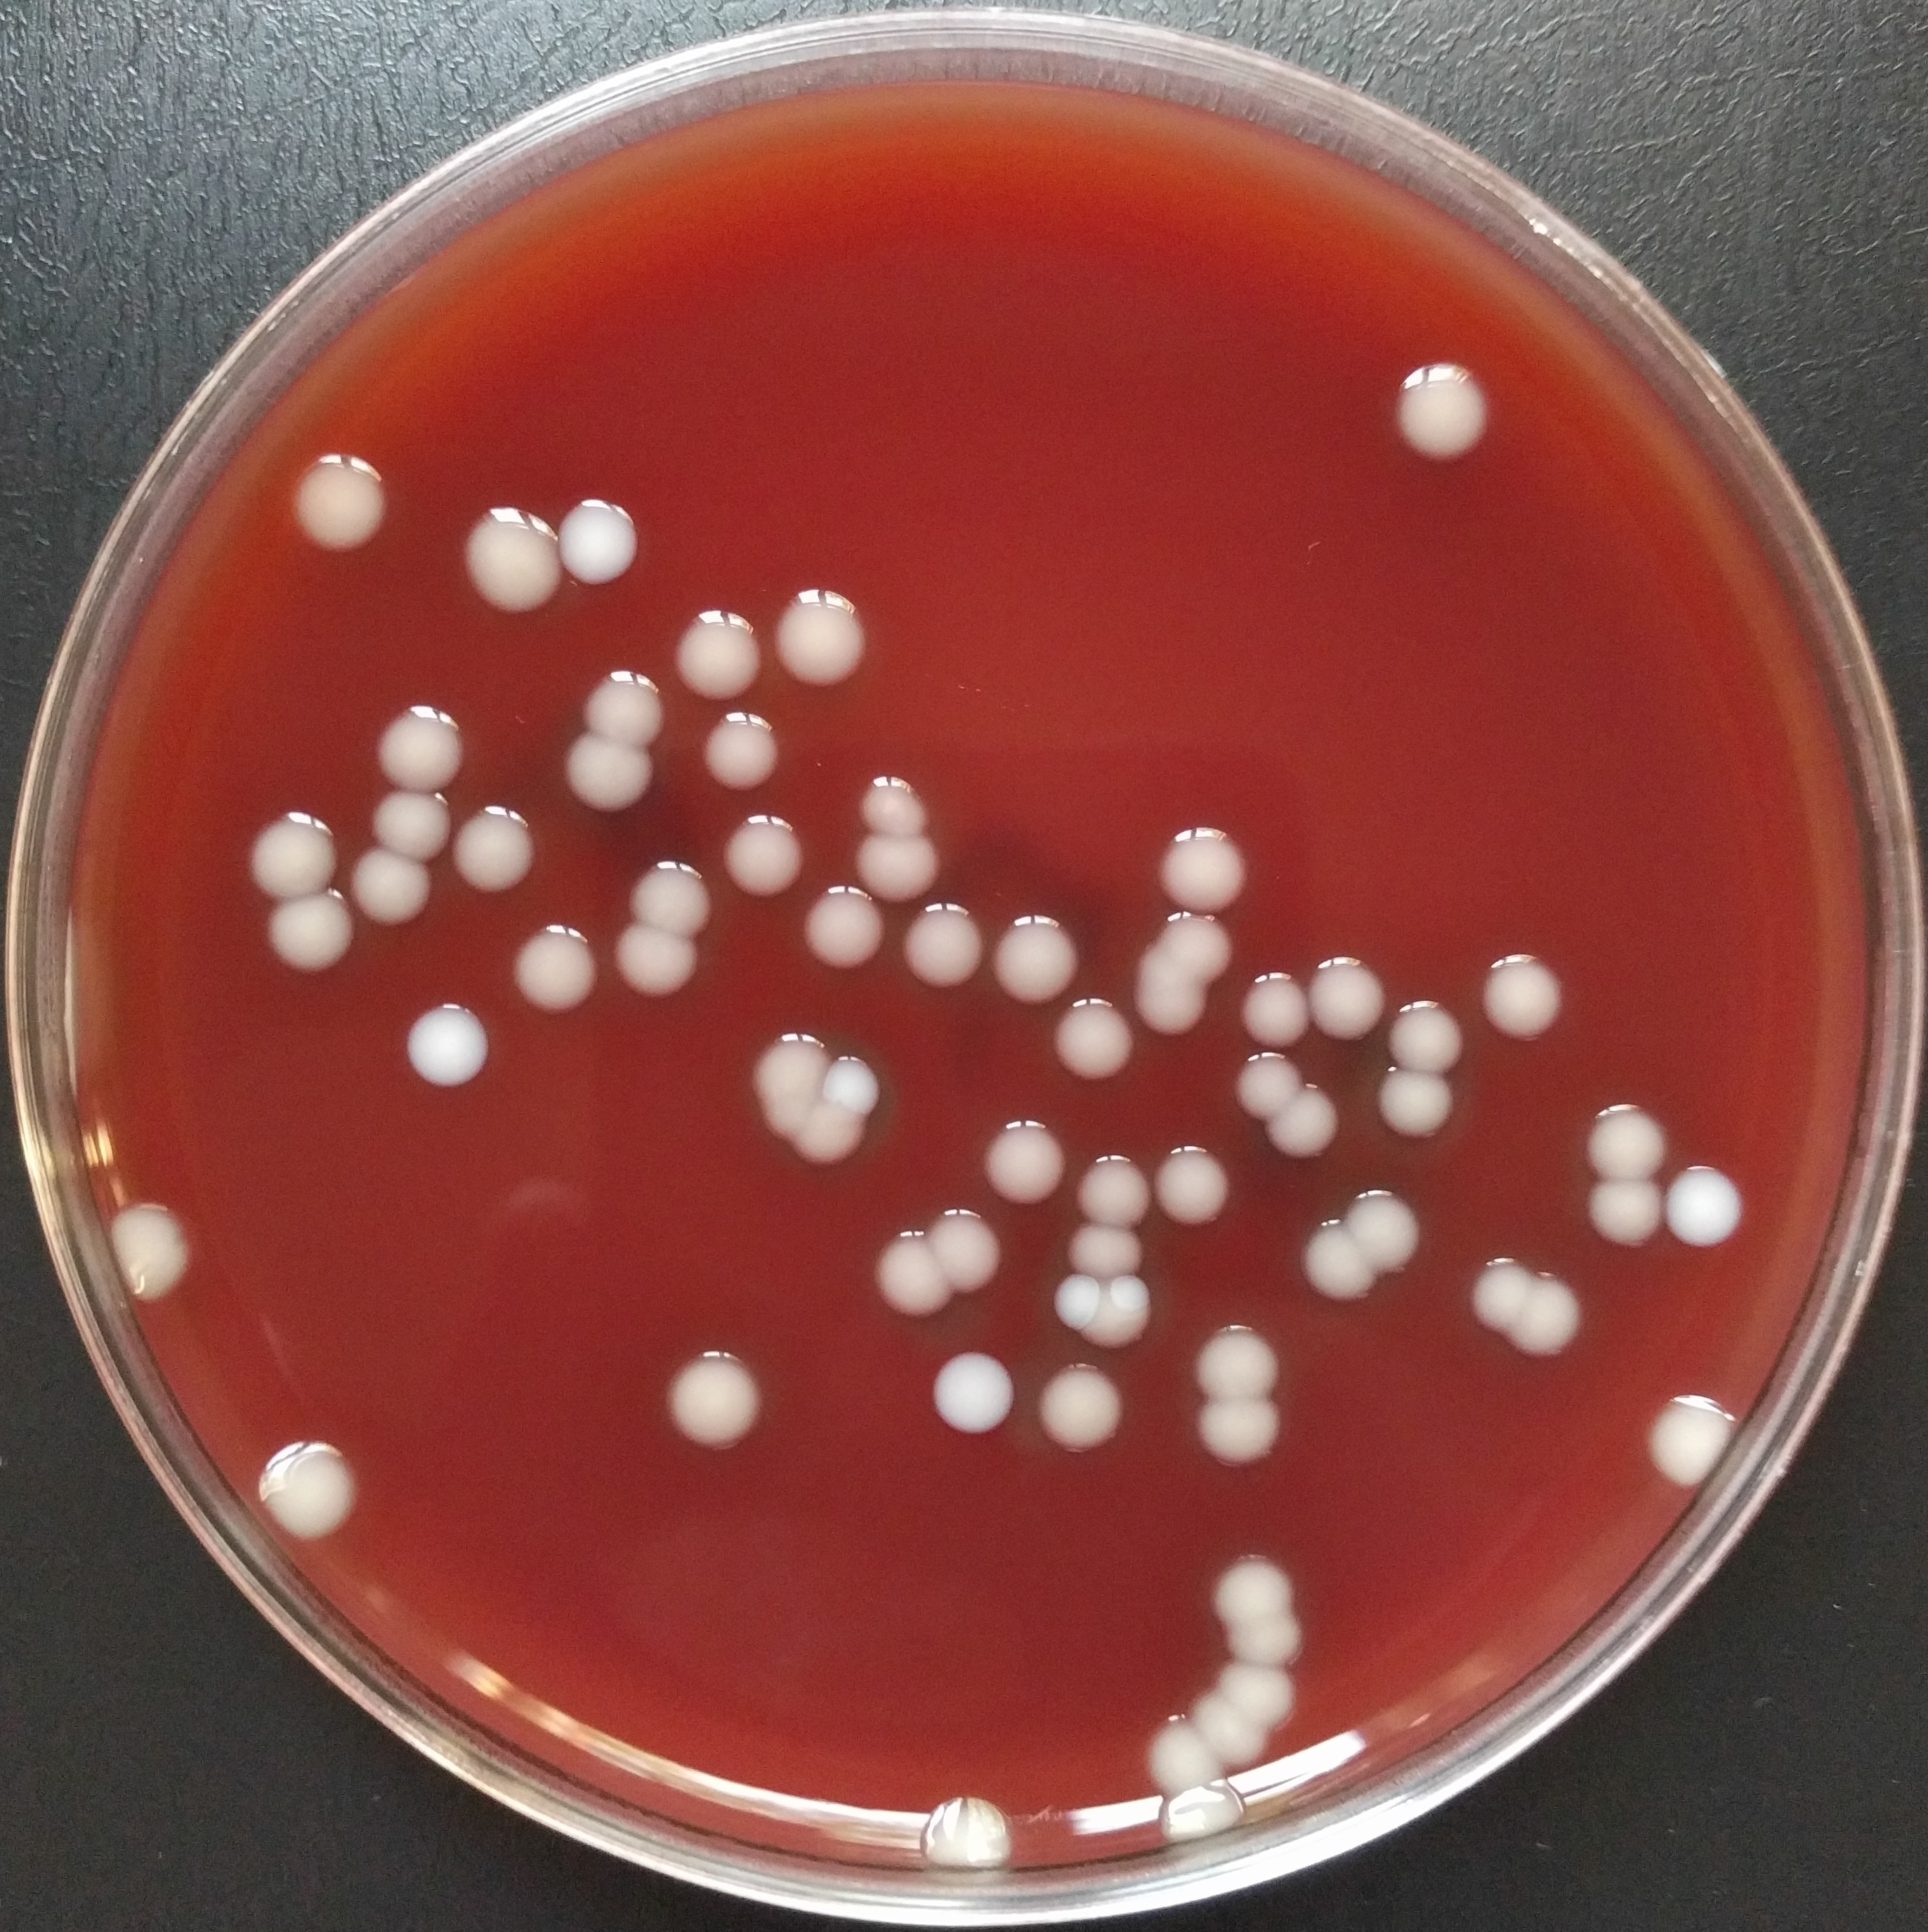sp03: (242, 1416, 367, 1558), (447, 482, 572, 622), (1375, 339, 1492, 475), (275, 440, 395, 567), (644, 1339, 766, 1455), (761, 579, 877, 687), (664, 593, 772, 710), (1144, 816, 1257, 924), (251, 885, 364, 989), (553, 487, 650, 604), (1227, 955, 1331, 1063), (913, 1190, 1012, 1303), (1176, 1316, 1294, 1409), (983, 904, 1086, 1012), (362, 687, 470, 789), (793, 871, 897, 975), (1638, 1395, 1739, 1503), (1284, 941, 1382, 1049), (1033, 982, 1141, 1081), (108, 1181, 198, 1298), (676, 696, 780, 795), (237, 802, 341, 901), (357, 774, 461, 872), (556, 722, 664, 818), (1135, 894, 1248, 984), (395, 996, 498, 1095), (334, 830, 433, 932), (867, 1219, 960, 1326), (890, 885, 983, 992), (719, 802, 812, 909), (844, 816, 955, 904), (922, 1347, 1020, 1446), (973, 1107, 1072, 1206), (567, 653, 669, 747), (447, 793, 540, 895), (1070, 1130, 1165, 1229), (913, 1787, 1017, 1877), (1472, 955, 1571, 1049), (1033, 1358, 1132, 1452), (496, 927, 600, 1012), (1130, 1699, 1220, 1794), (1575, 1093, 1663, 1187), (1195, 1672, 1266, 1789), (747, 1024, 826, 1127), (1204, 1547, 1299, 1632), (604, 918, 701, 1001), (1390, 978, 1465, 1081), (1347, 1176, 1428, 1272), (1667, 1162, 1751, 1252), (1372, 1065, 1465, 1146), (1301, 1219, 1386, 1307), (1195, 1390, 1289, 1469), (1079, 1270, 1165, 1355), (621, 857, 715, 932), (1204, 1598, 1312, 1664), (1515, 1273, 1585, 1369), (1580, 1173, 1663, 1252), (1255, 1079, 1340, 1155), (1218, 1056, 1308, 1127), (1149, 1144, 1229, 1224), (849, 770, 938, 841), (1469, 1250, 1534, 1340), (1061, 1219, 1146, 1284), (770, 1107, 863, 1164), (1155, 1778, 1238, 1840), (1218, 1667, 1308, 1720), (1038, 1264, 1109, 1330), (810, 1042, 877, 1109), (1130, 982, 1206, 1030)
